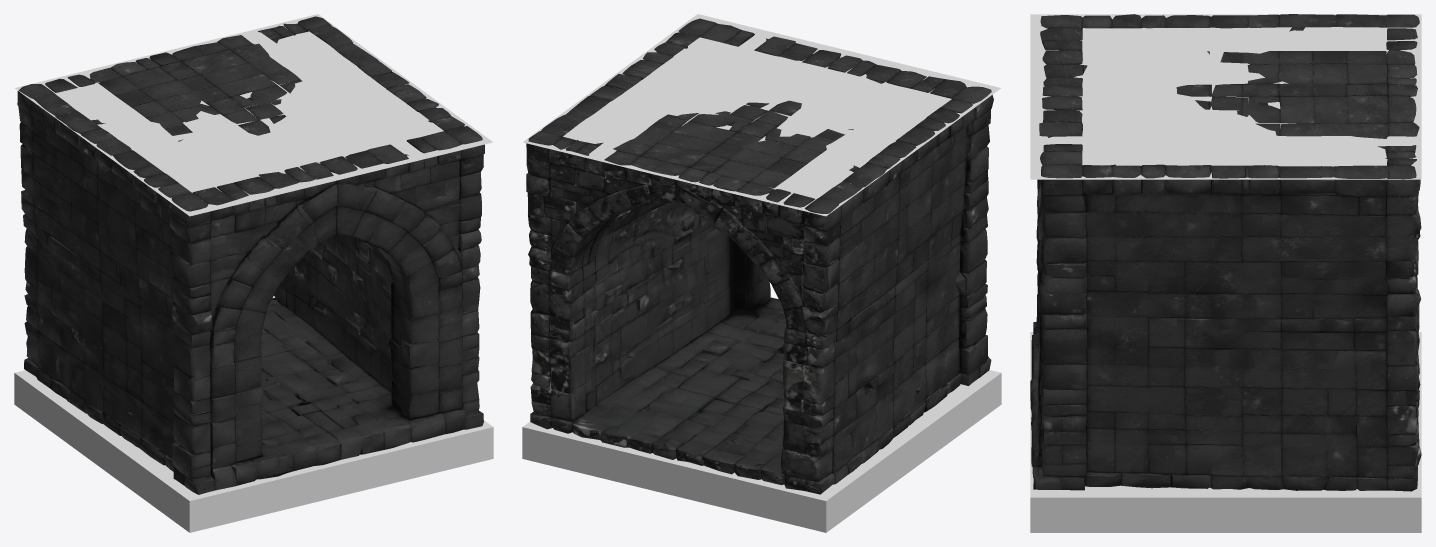
Rendered from module_straight.glb.
3 renders of one model, left to right at view 1: azimuth 30°, elevation 25°; view 2: azimuth 150°, elevation 25°; view 3: azimuth 270°, elevation 25°, orthographic. The views are drawn at different scales.
Visible parts, largest first — view 1: tripo_node_d1f22615-8681-4910-b354-69580f6371b2; view 2: tripo_node_d1f22615-8681-4910-b354-69580f6371b2; view 3: tripo_node_d1f22615-8681-4910-b354-69580f6371b2.
Part boxes in pixels (bbox=[...]): tripo_node_d1f22615-8681-4910-b354-69580f6371b2: bbox=[14, 14, 493, 532]; tripo_node_d1f22615-8681-4910-b354-69580f6371b2: bbox=[522, 14, 1001, 532]; tripo_node_d1f22615-8681-4910-b354-69580f6371b2: bbox=[1030, 14, 1421, 532].
Size of the model in its own units: 6 by 6 by 6.
Materials: 2 (1 with a texture image).
